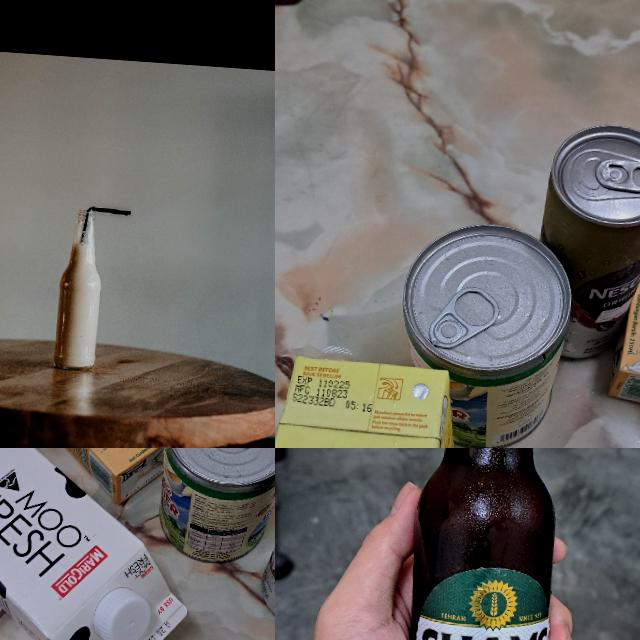aba de lata: (428, 286, 502, 354), (594, 153, 640, 194)
caixinha: (0, 448, 206, 640), (275, 354, 465, 448), (0, 448, 179, 506), (608, 275, 640, 422)
garrafa de vidro: (390, 448, 574, 640), (54, 207, 107, 374)
lata: (392, 216, 577, 448), (532, 117, 640, 367), (157, 448, 275, 568)
tampa plástica: (90, 585, 154, 640)
